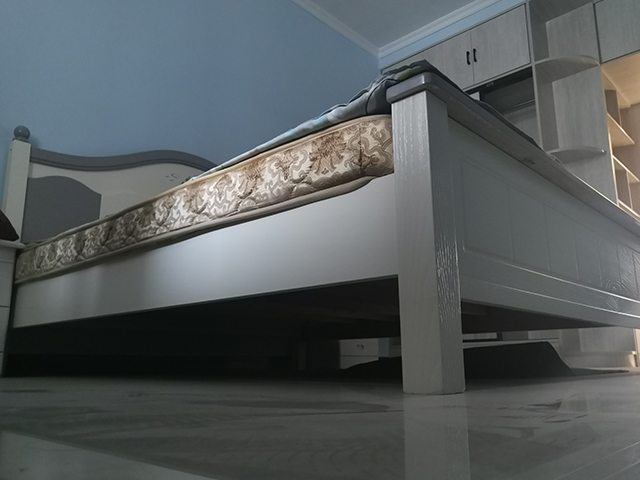bed: (1, 56, 640, 398)
